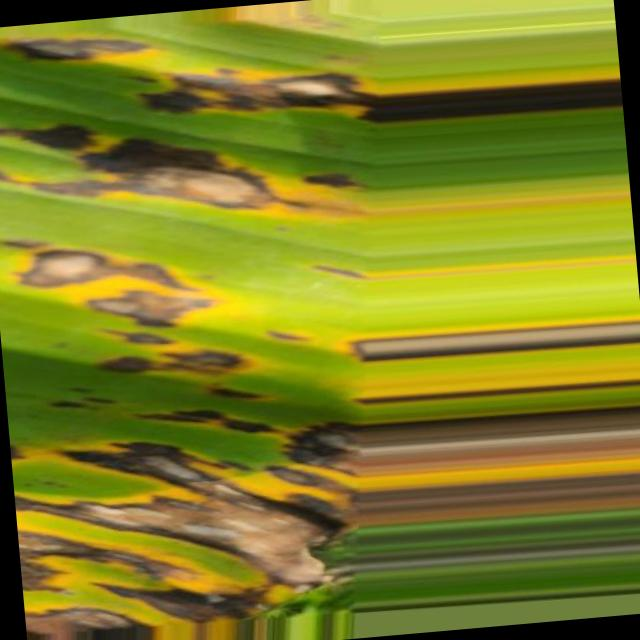Banana_Yellow_Sigatoka: (11, 332, 529, 640), (0, 0, 409, 352)
